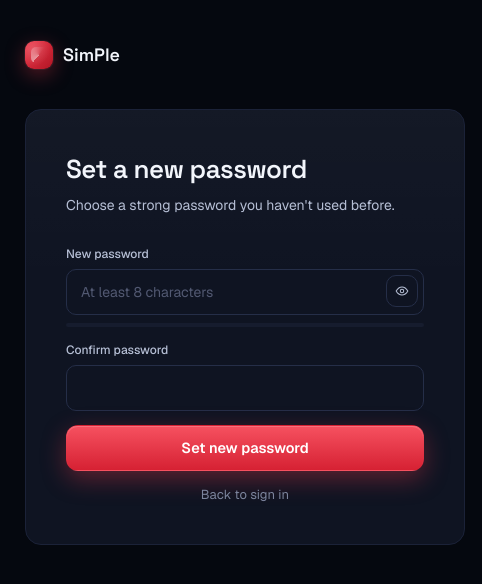
Scenario: ResetPasswordPage › shows error when passwords do not match
Type "ValidPass1!" into the password field with placeholder "At least 8 characters" at (245, 292), box top-left (66, 269), bottom-right (424, 315)
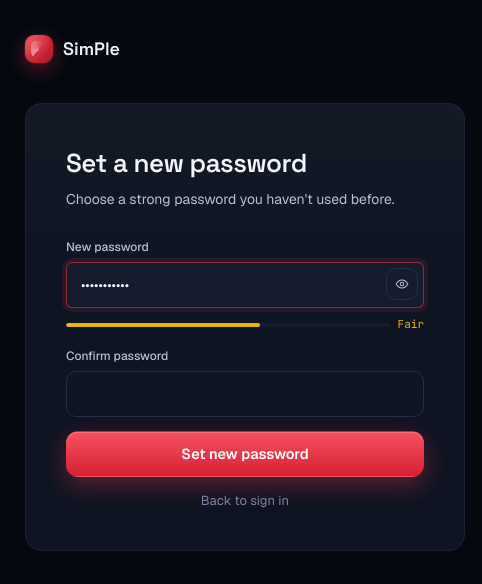
// Find the confirm password field (second password-type input)
Type "DifferentPass1!" into the password field labelled "Confirm password" at (245, 394), box top-left (66, 371), bottom-right (424, 417)
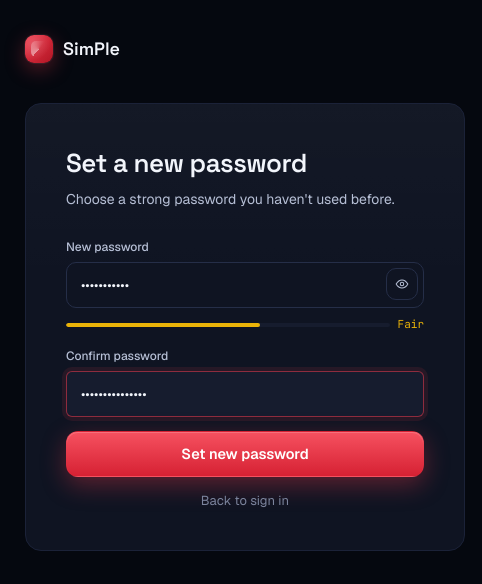
Submit the form named "set new password", box top-left (66, 144), bottom-right (424, 510)
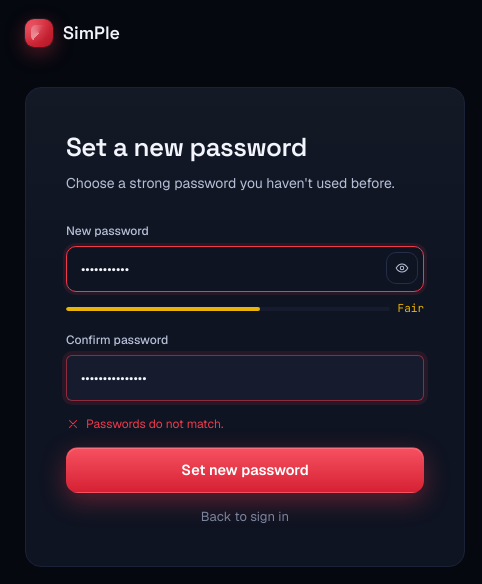
Expected: the text "Passwords do not match." is shown, top-left (66, 416), bottom-right (223, 432)
